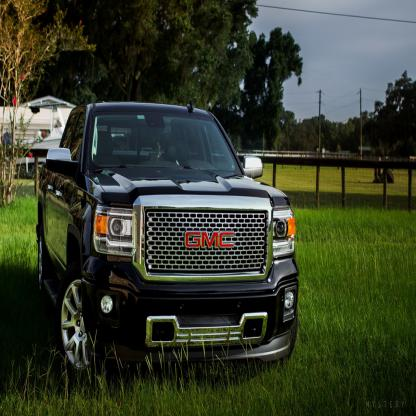Car: (35, 57, 299, 387)
Truck: (36, 57, 300, 385)
